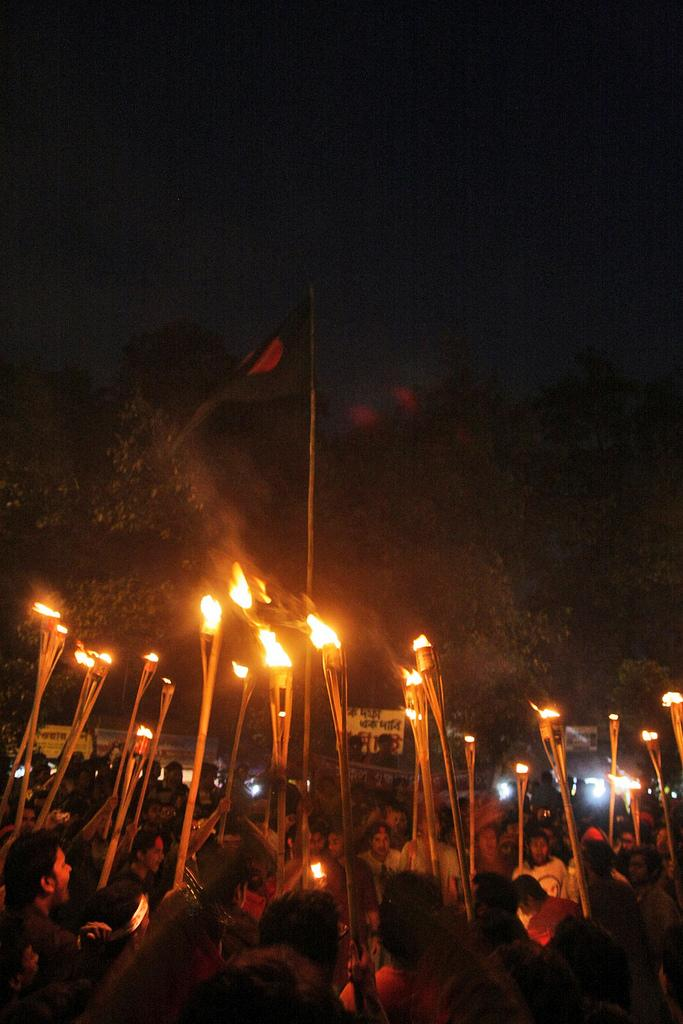fire: (223, 580, 342, 698)
